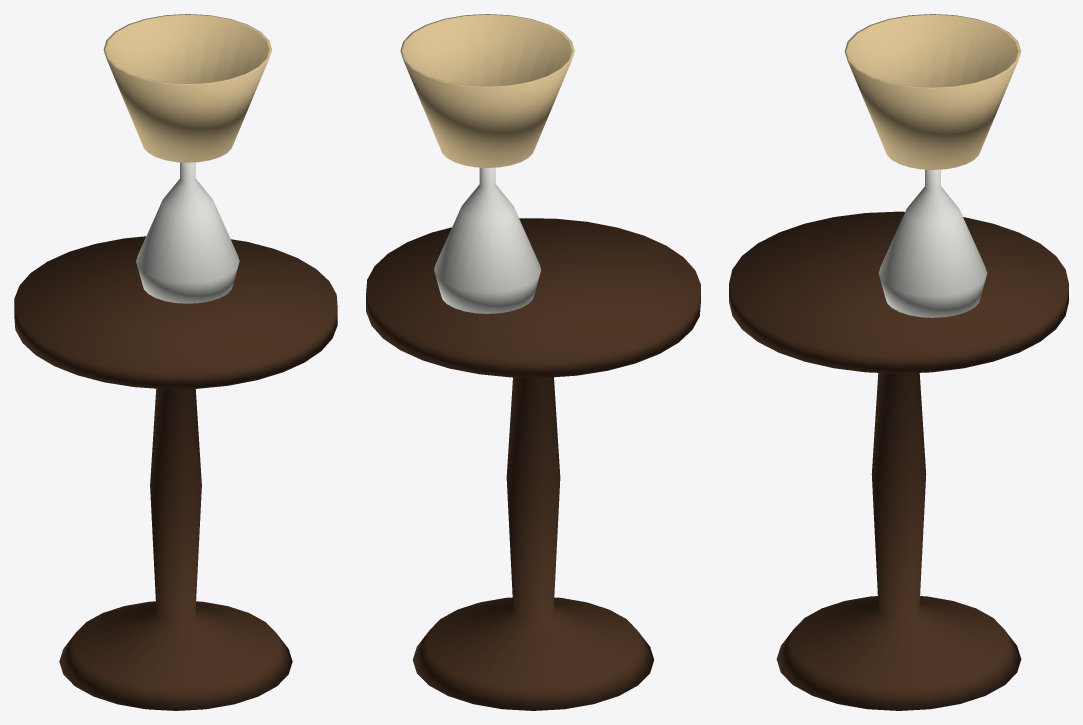
Rendered from side_table.glb.
The picture shows the model from 3 angles, left to right: view 1: azimuth 30°, elevation 25°; view 2: azimuth 150°, elevation 25°; view 3: azimuth 270°, elevation 25°; orthographic projection. The views are drawn at different scales.
Visible parts, largest first — view 1: side_table; view 2: side_table; view 3: side_table.
Boxes of the visible parts, bbox=[...] form: side_table: bbox=[14, 14, 337, 710]; side_table: bbox=[366, 14, 700, 710]; side_table: bbox=[729, 14, 1068, 710].
Bounding box in the file's own units: 0.5 × 1.01 × 0.5.
